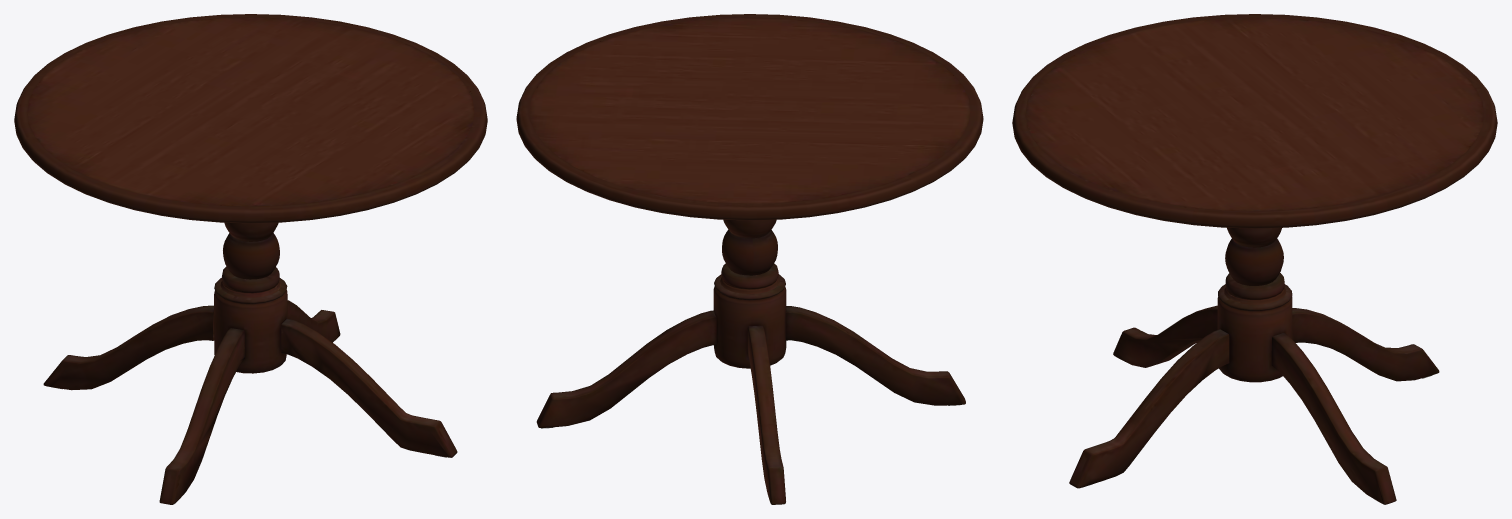
The model's file is round_wooden_table_01.glb.
The picture shows the model from 3 angles, left to right: view 1: azimuth 30°, elevation 25°; view 2: azimuth 150°, elevation 25°; view 3: azimuth 270°, elevation 25°; orthographic projection. The views are drawn at different scales.
Visible parts, largest first — view 1: round_wooden_table_01; view 2: round_wooden_table_01; view 3: round_wooden_table_01.
Boxes of the visible parts, left/top/right/bottom form: round_wooden_table_01: left=14, top=14, right=487, bottom=504; round_wooden_table_01: left=516, top=14, right=983, bottom=504; round_wooden_table_01: left=1012, top=14, right=1497, bottom=504.
Bounding box in the file's own units: 1.4 × 1 × 1.4.
Materials: 1 (1 with a texture image).
